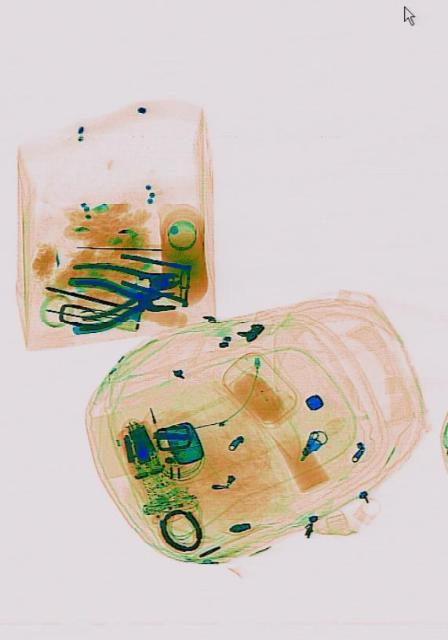Pliers: (70, 250, 183, 322), (66, 269, 175, 335)
